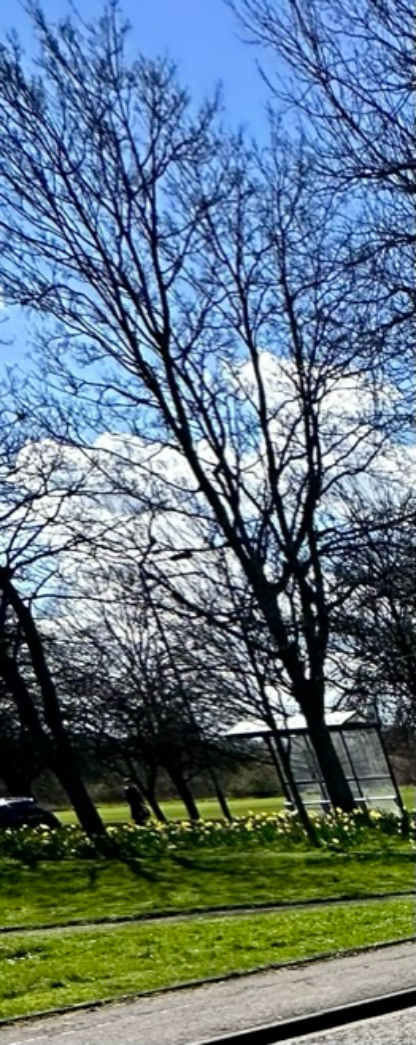tree: (0, 4, 395, 851)
